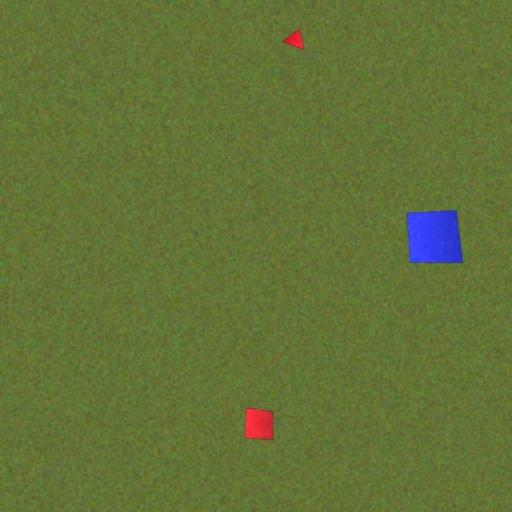BLUE_SQUARE: (406, 210, 464, 264)
RED_SQUARE: (244, 407, 274, 441)
